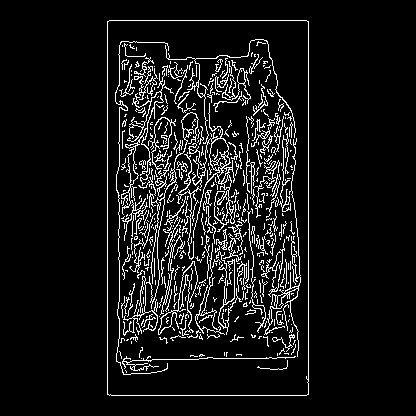buddha-standing: (53, 195, 274, 283)
